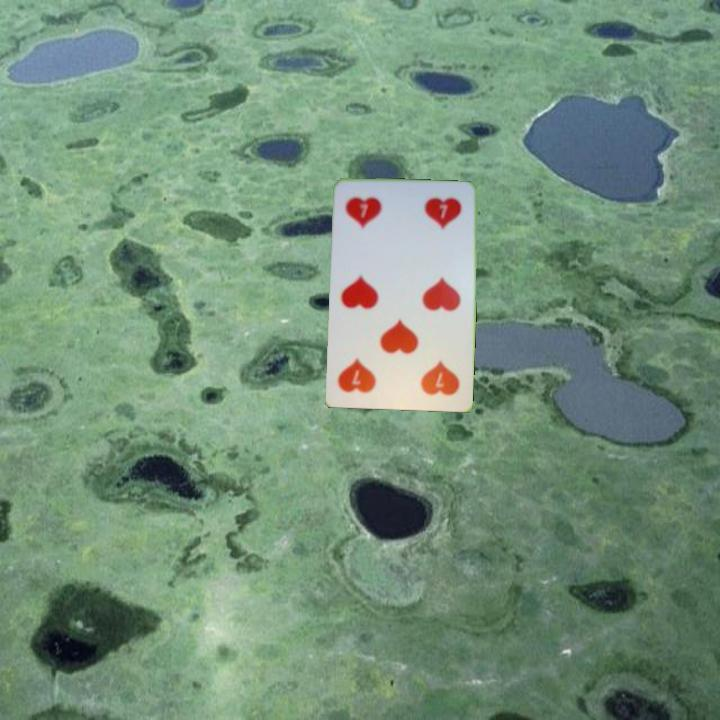h_7.png: (340, 186, 409, 246), (396, 342, 465, 402)
